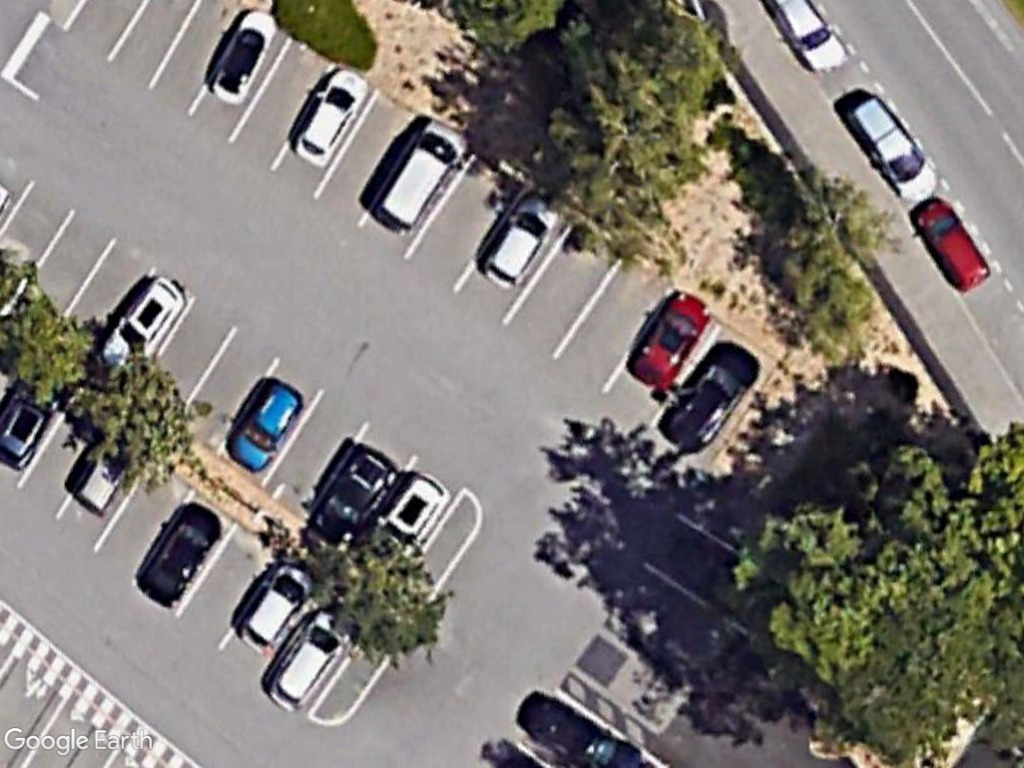car: (653, 336, 763, 455), (842, 91, 938, 203), (263, 606, 348, 713), (909, 195, 992, 295), (291, 70, 374, 170), (480, 194, 560, 290), (227, 382, 307, 474), (238, 563, 320, 652)
van: (371, 120, 467, 233)
